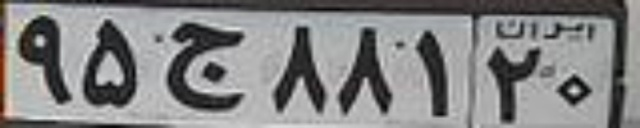0: (552, 74, 592, 107)
1: (411, 27, 450, 118)
2: (486, 46, 544, 123)
5: (81, 18, 138, 110)
8: (269, 25, 325, 115), (337, 26, 393, 114)
9: (17, 13, 73, 105)
jim: (166, 21, 244, 111)
